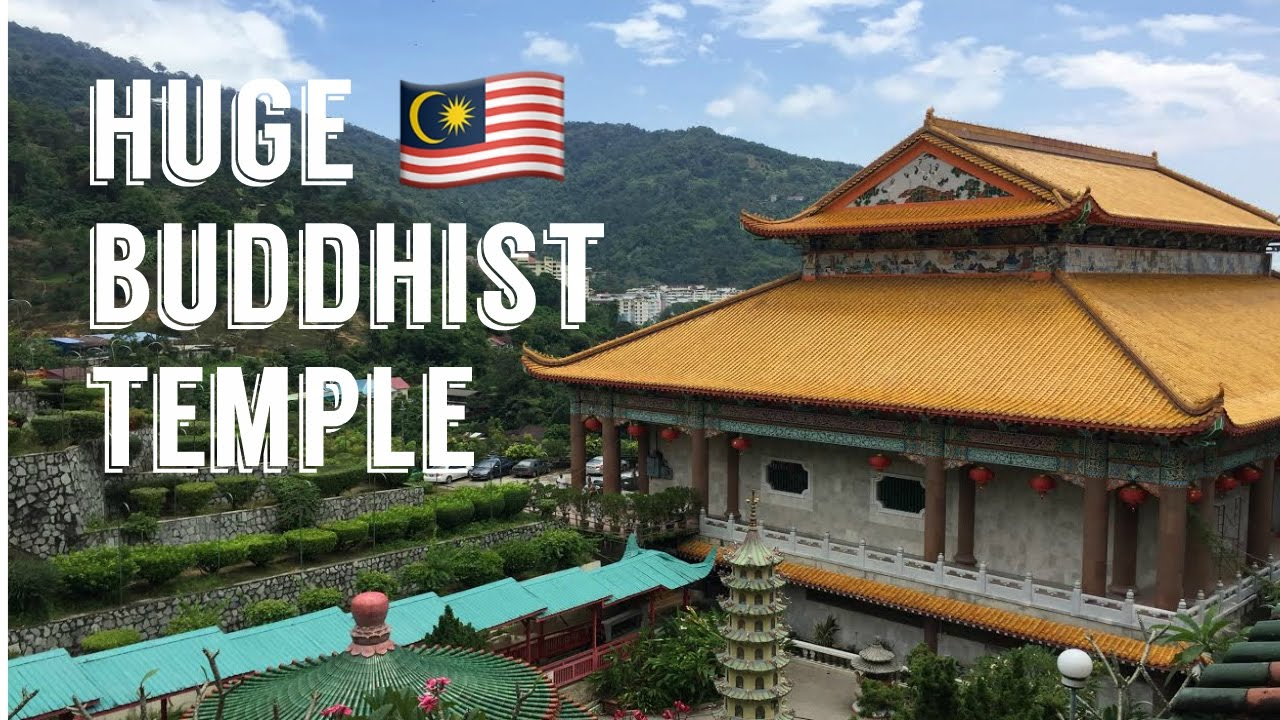Buddhist Temple: (566, 100, 1272, 629)
